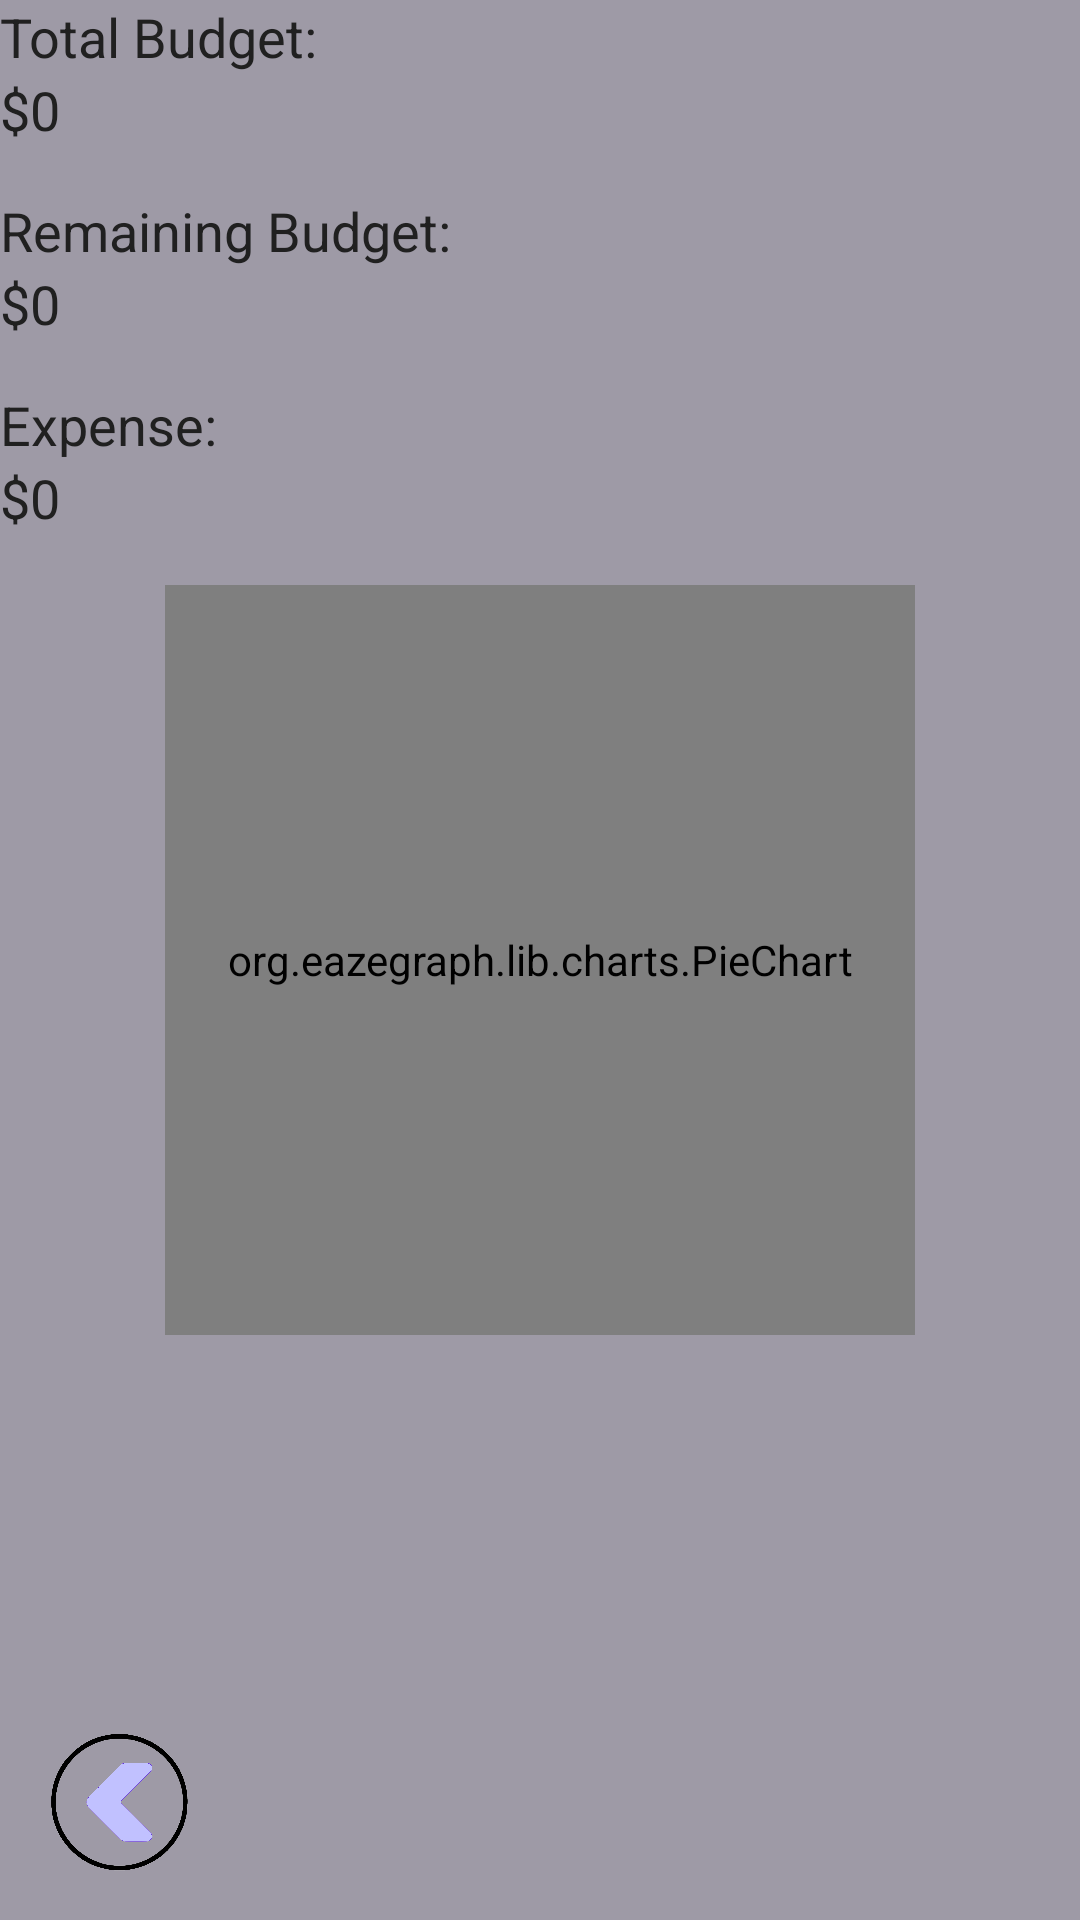

Screen size 1080w x 1920h. Icon name, then its center in pixels as (x,y):
back: (119,1802)
